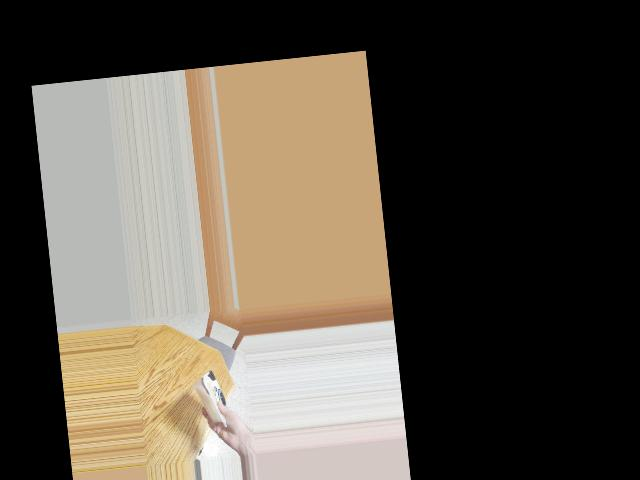cheese: (190, 370, 238, 425)
